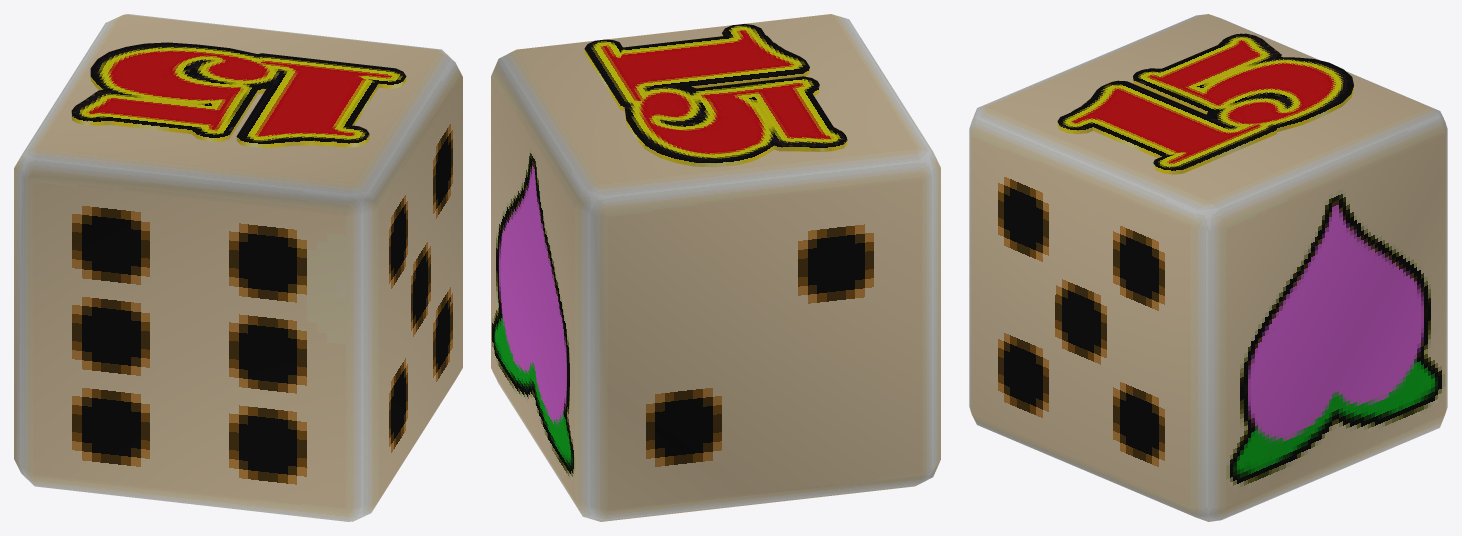
Rendered from ps2_save-icons_momotarodentetsu15.glb.
3 views of the same model, side by side, from view 1: azimuth 30°, elevation 25°; view 2: azimuth 150°, elevation 25°; view 3: azimuth 270°, elevation 25° (orthographic). The views are drawn at different scales.
Visible parts, largest first — view 1: sm_00.ico; view 2: sm_00.ico; view 3: sm_00.ico.
Part boxes in pixels (x1=…): sm_00.ico: x1=14, y1=14, x2=462, y2=521; sm_00.ico: x1=491, y1=14, x2=940, y2=521; sm_00.ico: x1=969, y1=14, x2=1447, y2=521.
Size of the model in its own units: 3.32 by 2.51 by 3.32.
1 material, 1 textured.
